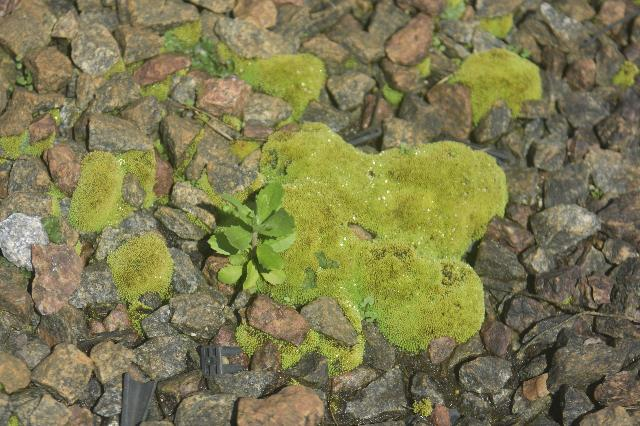MalezaMontesDelPlata: (210, 179, 297, 290)
MusgoMontesDelPlata: (366, 138, 510, 250), (260, 118, 366, 223), (376, 255, 489, 350), (289, 224, 374, 314), (447, 46, 545, 121), (234, 325, 362, 380), (219, 53, 330, 111), (103, 236, 175, 301), (67, 149, 118, 232), (119, 148, 158, 217), (164, 19, 203, 57), (474, 12, 519, 39)
